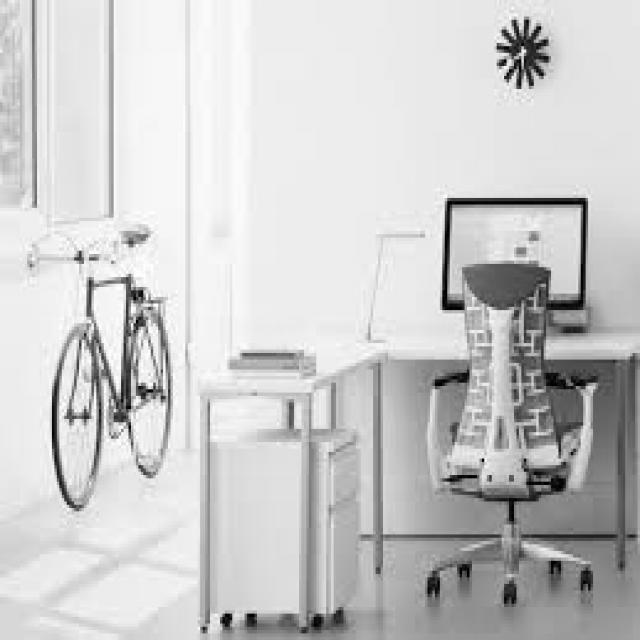chair: (428, 256, 596, 606)
